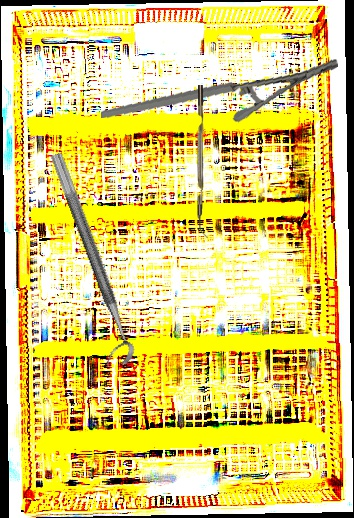Chopper: (195, 84, 211, 239)
Fixation Ring: (32, 151, 139, 371)
Needle Holder: (100, 31, 339, 146)
